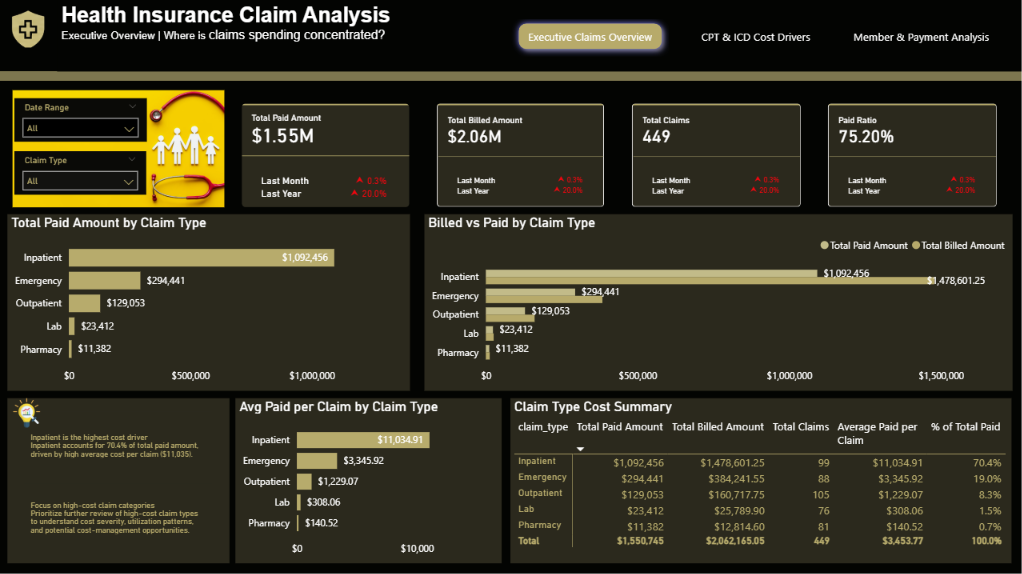

This screenshot's page, from the dashboard's own definition file:
{"tool":"powerbi","page":{"name":"Executive Claims Overview","canvas":[1280,720],"ordinal":0},"visuals":[{"type":"shape","box":[0,90.6,1280.3,12.3],"z":0},{"type":"textbox","box":[74.1,0,1206.2,90.6],"z":1000,"group":"g3"},{"type":"group","id":"g1","title":"Group 1","box":[10.8,114.1,277.4,146.5],"z":1000},{"type":"group","id":"g2","title":"Group 2","box":[287.7,114,978.7,163.4],"z":2000},{"type":"image","box":[0,0,74.1,74.1],"z":3000,"group":"g3"},{"type":"clusteredBarChart","title":"Total Paid Amount by Claim Type","fields":{"Y":["Measure Table.Total Paid Amount"],"Category":["claims.claim_type"]},"box":[10.8,269,503.1,220.9],"z":3000},{"type":"clusteredBarChart","title":"Avg Paid per Claim by Claim Type","fields":{"Category":["claims.claim_type"],"Y":["Measure Table.Average Paid per Claim"]},"box":[296.6,498.3,332.6,206.5],"z":4000},{"type":"pivotTable","title":"Claim Type Cost Summary","fields":{"Rows":["claims.claim_type"],"Values":["Measure Table.Total Paid Amount","Measure Table.Total Billed Amount","Measure Table.Total Claims","Measure Table.Average Paid per Claim","Measure Table.% of Total Paid"]},"box":[640,498.3,626.8,206.5],"z":5000},{"type":"cardVisual","fields":{"Data":["Measure Table.Total Paid Amount"]},"box":[287.7,114,243.7,163.4],"z":6000,"group":"g2"},{"type":"clusteredBarChart","title":"Billed vs Paid by Claim Type","fields":{"Y":["Measure Table.Total Paid Amount","Measure Table.Total Billed Amount"],"Category":["claims.claim_type"]},"box":[531.9,269,734.9,220.9],"z":6000},{"type":"group","id":"g3","title":"Group 3","box":[0,0,1280.3,90.6],"z":7000},{"type":"image","box":[10.8,114.1,277.4,146.5],"z":7000,"group":"g1"},{"type":"cardVisual","fields":{"Data":["Measure Table.Insight 1","Measure Table.Insight 3"]},"box":[10.8,498.3,277.4,206.5],"z":7000,"group":"g4"},{"type":"cardVisual","fields":{"Data":["Measure Table.Total Billed Amount"]},"box":[531.4,114,243.7,163.4],"z":8000,"group":"g2"},{"type":"slicer","fields":{"Values":["claims.claim_type"]},"box":[19.2,189.7,164.5,54],"z":8000,"group":"g1"},{"type":"group","id":"g4","title":"Group 4","box":[10.8,498.3,277.4,206.5],"z":8000},{"type":"cardVisual","fields":{"Data":["Measure Table.Total Claims"]},"box":[775.2,114,245.6,163.4],"z":9000,"group":"g2"},{"type":"image","box":[11.4,498.9,48.5,37.1],"z":9001,"group":"g4"},{"type":"cardVisual","fields":{"Data":["Measure Table.Paid Ratio"]},"box":[1020.8,114,245.6,163.4],"z":10000,"group":"g2"},{"type":"slicer","fields":{"Values":["Date.Month Year"]},"box":[19.4,124.1,165.3,54.2],"z":10000,"group":"g1"},{"type":"pageNavigator","box":[653.2,20.4,600.4,50.4],"z":10500,"group":"g3"}]}

Visuals, with their boxes in screenshot pixels (x1, y1, x2, y2), scaled from the page's 1280x720 canvas onto the 1022x574 screenshot:
shape: [left=0, top=72, right=1021, bottom=82]
textbox: [left=59, top=0, right=1021, bottom=72]
"Group 1" group: [left=9, top=91, right=230, bottom=208]
"Group 2" group: [left=230, top=91, right=1011, bottom=221]
image: [left=0, top=0, right=59, bottom=59]
"Total Paid Amount by Claim Type" clusteredBarChart: [left=9, top=214, right=410, bottom=391]
"Avg Paid per Claim by Claim Type" clusteredBarChart: [left=237, top=397, right=502, bottom=562]
"Claim Type Cost Summary" pivotTable: [left=511, top=397, right=1011, bottom=562]
cardVisual - Measure Table.Total Paid Amount: [left=230, top=91, right=424, bottom=221]
"Billed vs Paid by Claim Type" clusteredBarChart: [left=425, top=214, right=1011, bottom=391]
"Group 3" group: [left=0, top=0, right=1021, bottom=72]
image: [left=9, top=91, right=230, bottom=208]
cardVisual - Measure Table.Insight 1 x Measure Table.Insight 3: [left=9, top=397, right=230, bottom=562]
cardVisual - Measure Table.Total Billed Amount: [left=424, top=91, right=619, bottom=221]
slicer - claims.claim_type: [left=15, top=151, right=147, bottom=194]
"Group 4" group: [left=9, top=397, right=230, bottom=562]
cardVisual - Measure Table.Total Claims: [left=619, top=91, right=815, bottom=221]
image: [left=9, top=398, right=48, bottom=427]
cardVisual - Measure Table.Paid Ratio: [left=815, top=91, right=1011, bottom=221]
slicer - Date.Month Year: [left=15, top=99, right=147, bottom=142]
pageNavigator: [left=522, top=16, right=1001, bottom=56]
